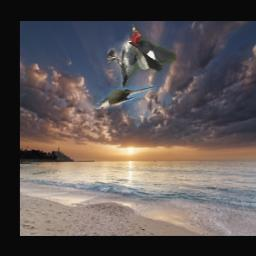Cuckoo: (95, 86, 157, 110)
Woodpecker: (109, 25, 177, 88)
